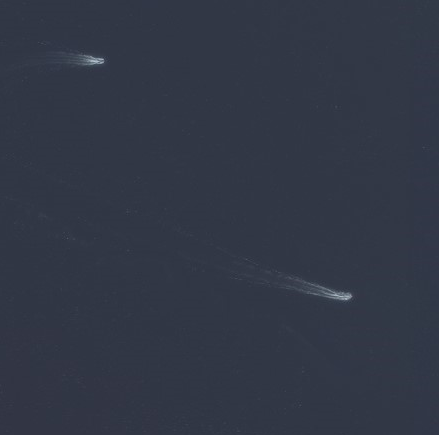ship: (89, 53, 108, 70), (340, 293, 353, 304)
